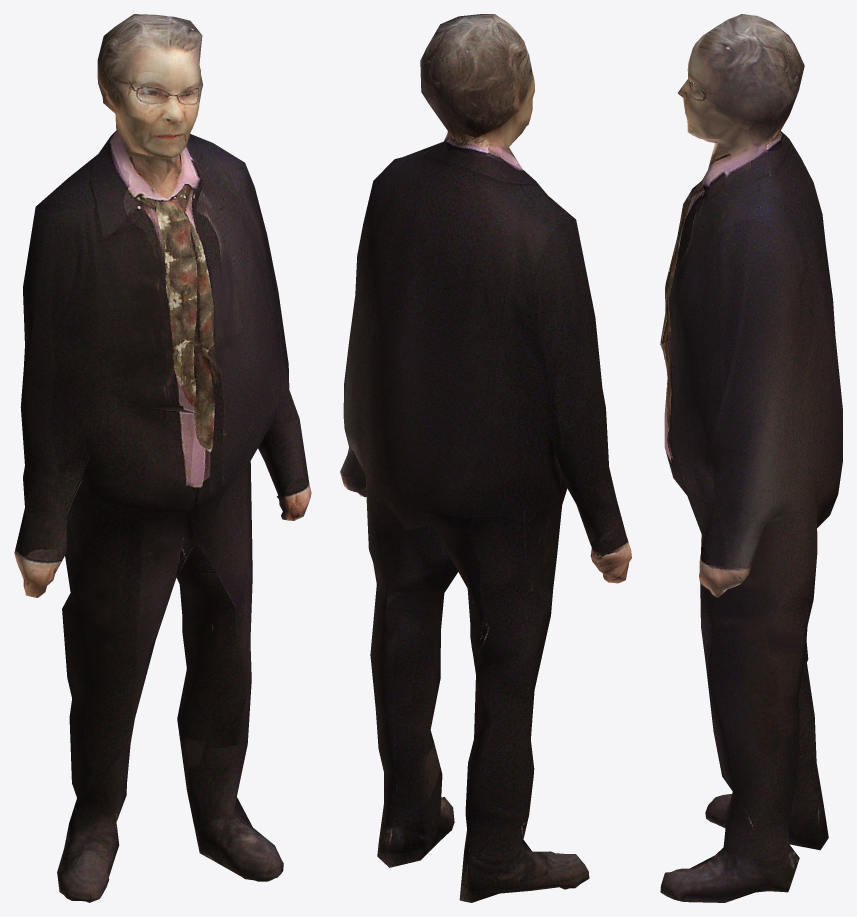
Rendered from Person_4.obj.
The picture shows the model from 3 angles, left to right: view 1: azimuth 30°, elevation 25°; view 2: azimuth 150°, elevation 25°; view 3: azimuth 270°, elevation 25°; orthographic projection.
Visible parts, largest first — view 1: Person_4; view 2: Person_4; view 3: Person_4.
Part boxes in pixels (x1,y1,x2,y2): Person_4: (14,14,311,902); Person_4: (340,14,631,902); Person_4: (660,14,842,902).
Size of the model in its own units: 0.5345 by 1.54 by 0.3043.
Materials: 1 (1 with a texture image).
